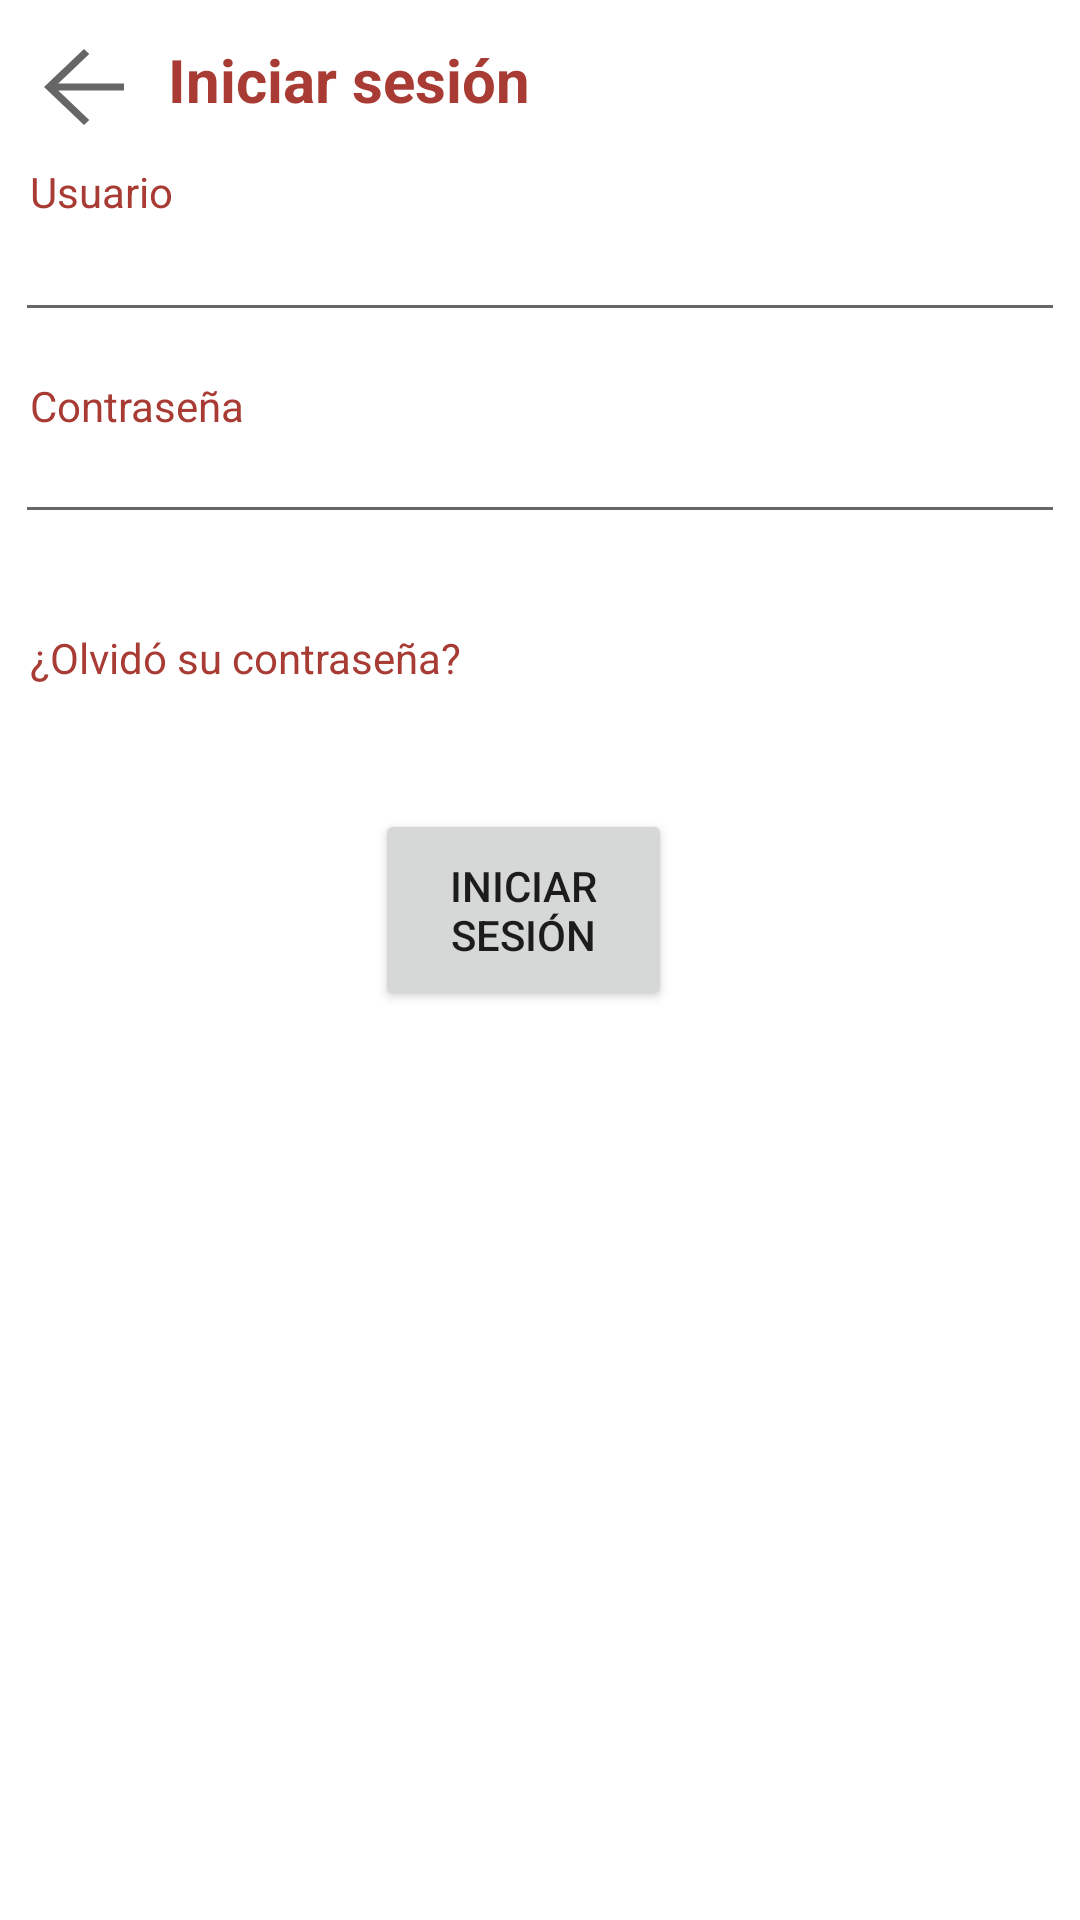

Named icons in this screenshot (1080×1920) and their centers, [x,y]:
arrow back: [84,87]
